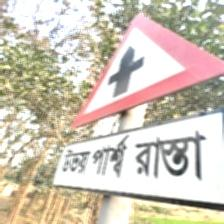Crossroad: (57, 13, 224, 216)
